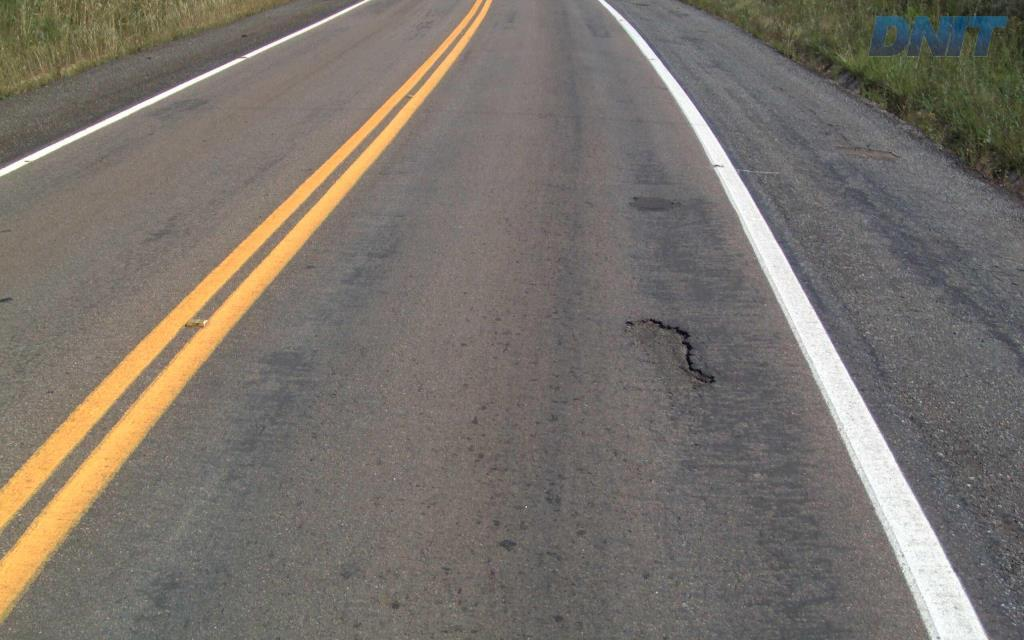pothole: (614, 311, 723, 392)
